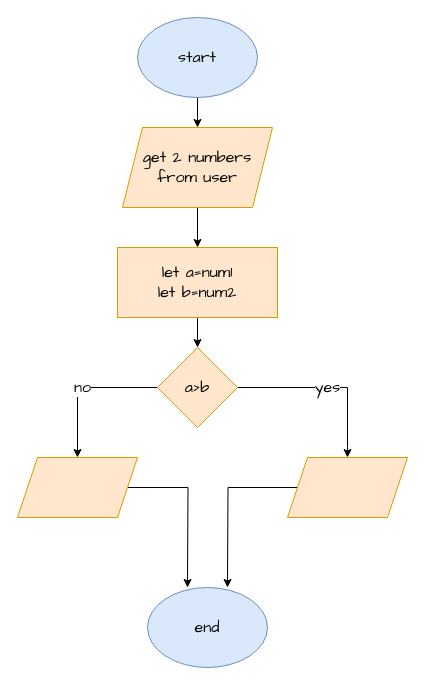
Image size: 425x685. Some labels were removed from this diagram. The shapes that lost their labels are listed below. From the top down, each one's centre as x and y in pixels, then its label:
At (x=77, y=487): "log b".
At (x=347, y=487): "log a".
